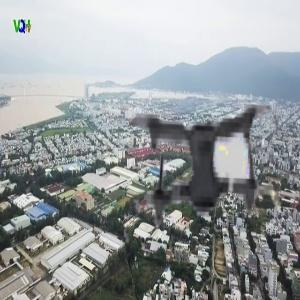drone: (106, 71, 299, 264)
